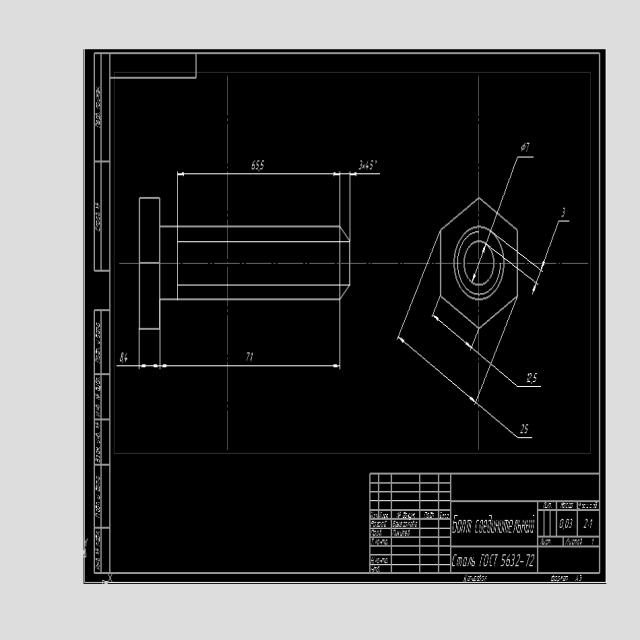marking_line: (177, 172, 342, 225), (158, 330, 341, 369), (396, 337, 475, 404), (335, 172, 380, 225), (114, 332, 163, 369), (433, 314, 476, 349), (518, 250, 546, 294), (471, 245, 486, 280)
numeric: (515, 554, 521, 567), (510, 554, 515, 568), (259, 160, 265, 171), (560, 207, 566, 217), (501, 553, 505, 568), (559, 517, 564, 529), (506, 554, 510, 568), (530, 554, 534, 568), (246, 351, 251, 362), (564, 517, 569, 528), (583, 518, 588, 529), (520, 424, 525, 434), (120, 351, 124, 363), (358, 161, 363, 170), (256, 160, 260, 171), (365, 159, 369, 170), (533, 373, 537, 384), (526, 554, 529, 568), (124, 352, 128, 362), (250, 352, 254, 362), (370, 160, 374, 170), (528, 373, 532, 383), (589, 518, 593, 528), (252, 160, 255, 171), (526, 141, 529, 152), (525, 423, 528, 433), (569, 519, 572, 529)
special_symbol: (521, 142, 526, 152), (375, 160, 378, 164)
